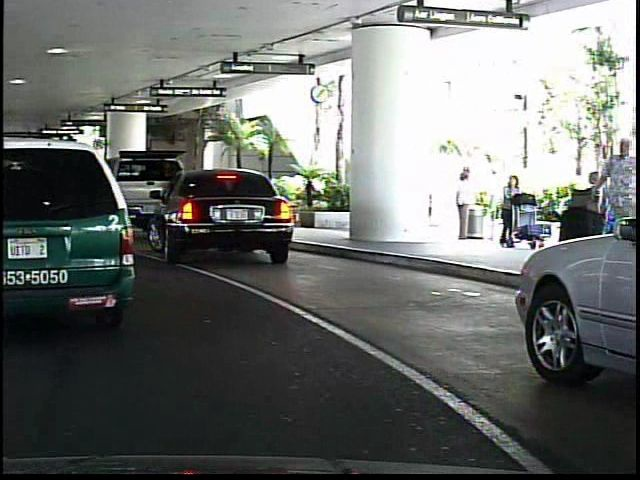person: (586, 132, 635, 291), (491, 172, 521, 256)
